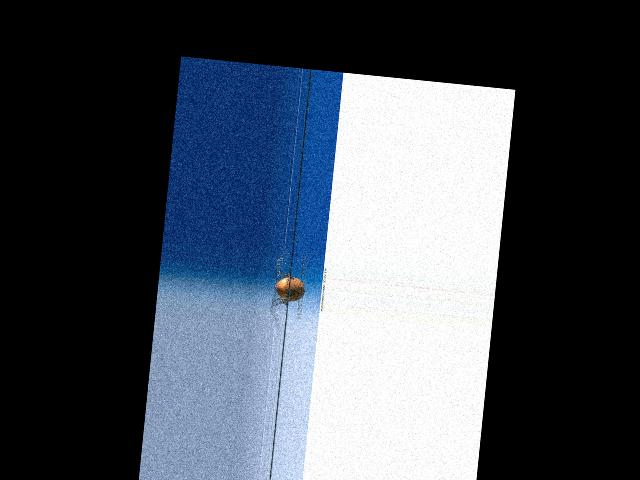egg: (274, 276, 306, 303)
